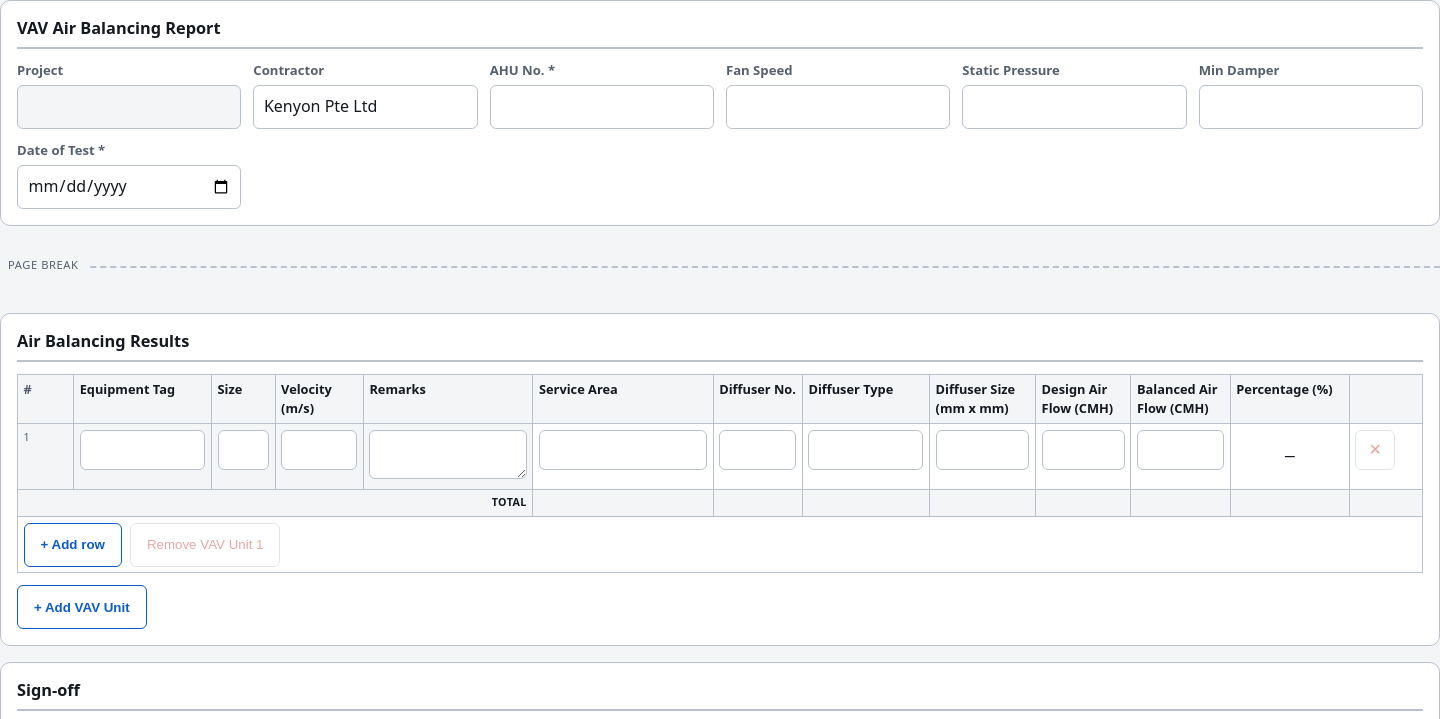
Scenario: VAV Air Balancing template › adds a diffuser row to a unit, carrying the service area down
This screenshot has width=1440, height=719.
Type "Open Office" into the field named "Service Area VAV Unit 1 row 1" at (623, 450), box [539,430,707,470]
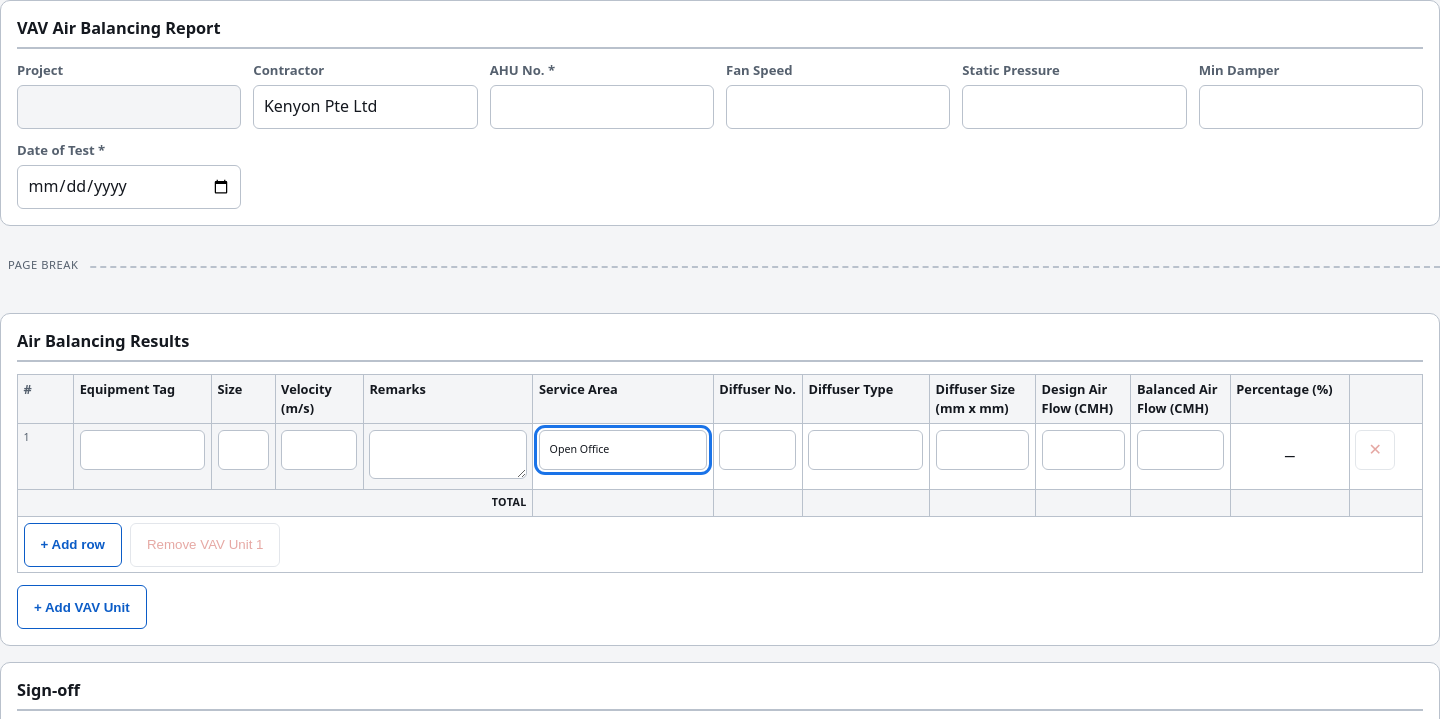
Click the button "+ Add row" at (73, 545), box [24,523,122,567]
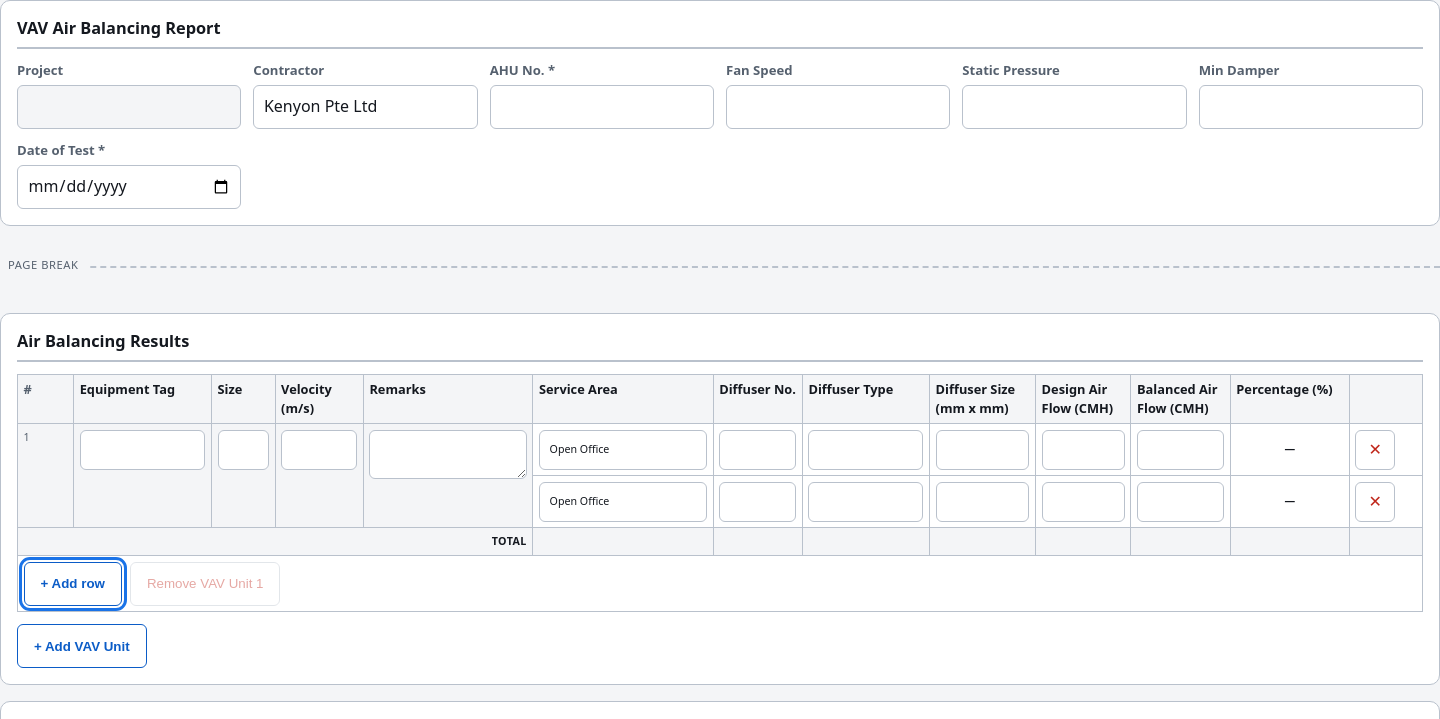
Expected: the field named "Service Area VAV Unit 1 row 2" holds "Open Office", [539,482,707,522]
